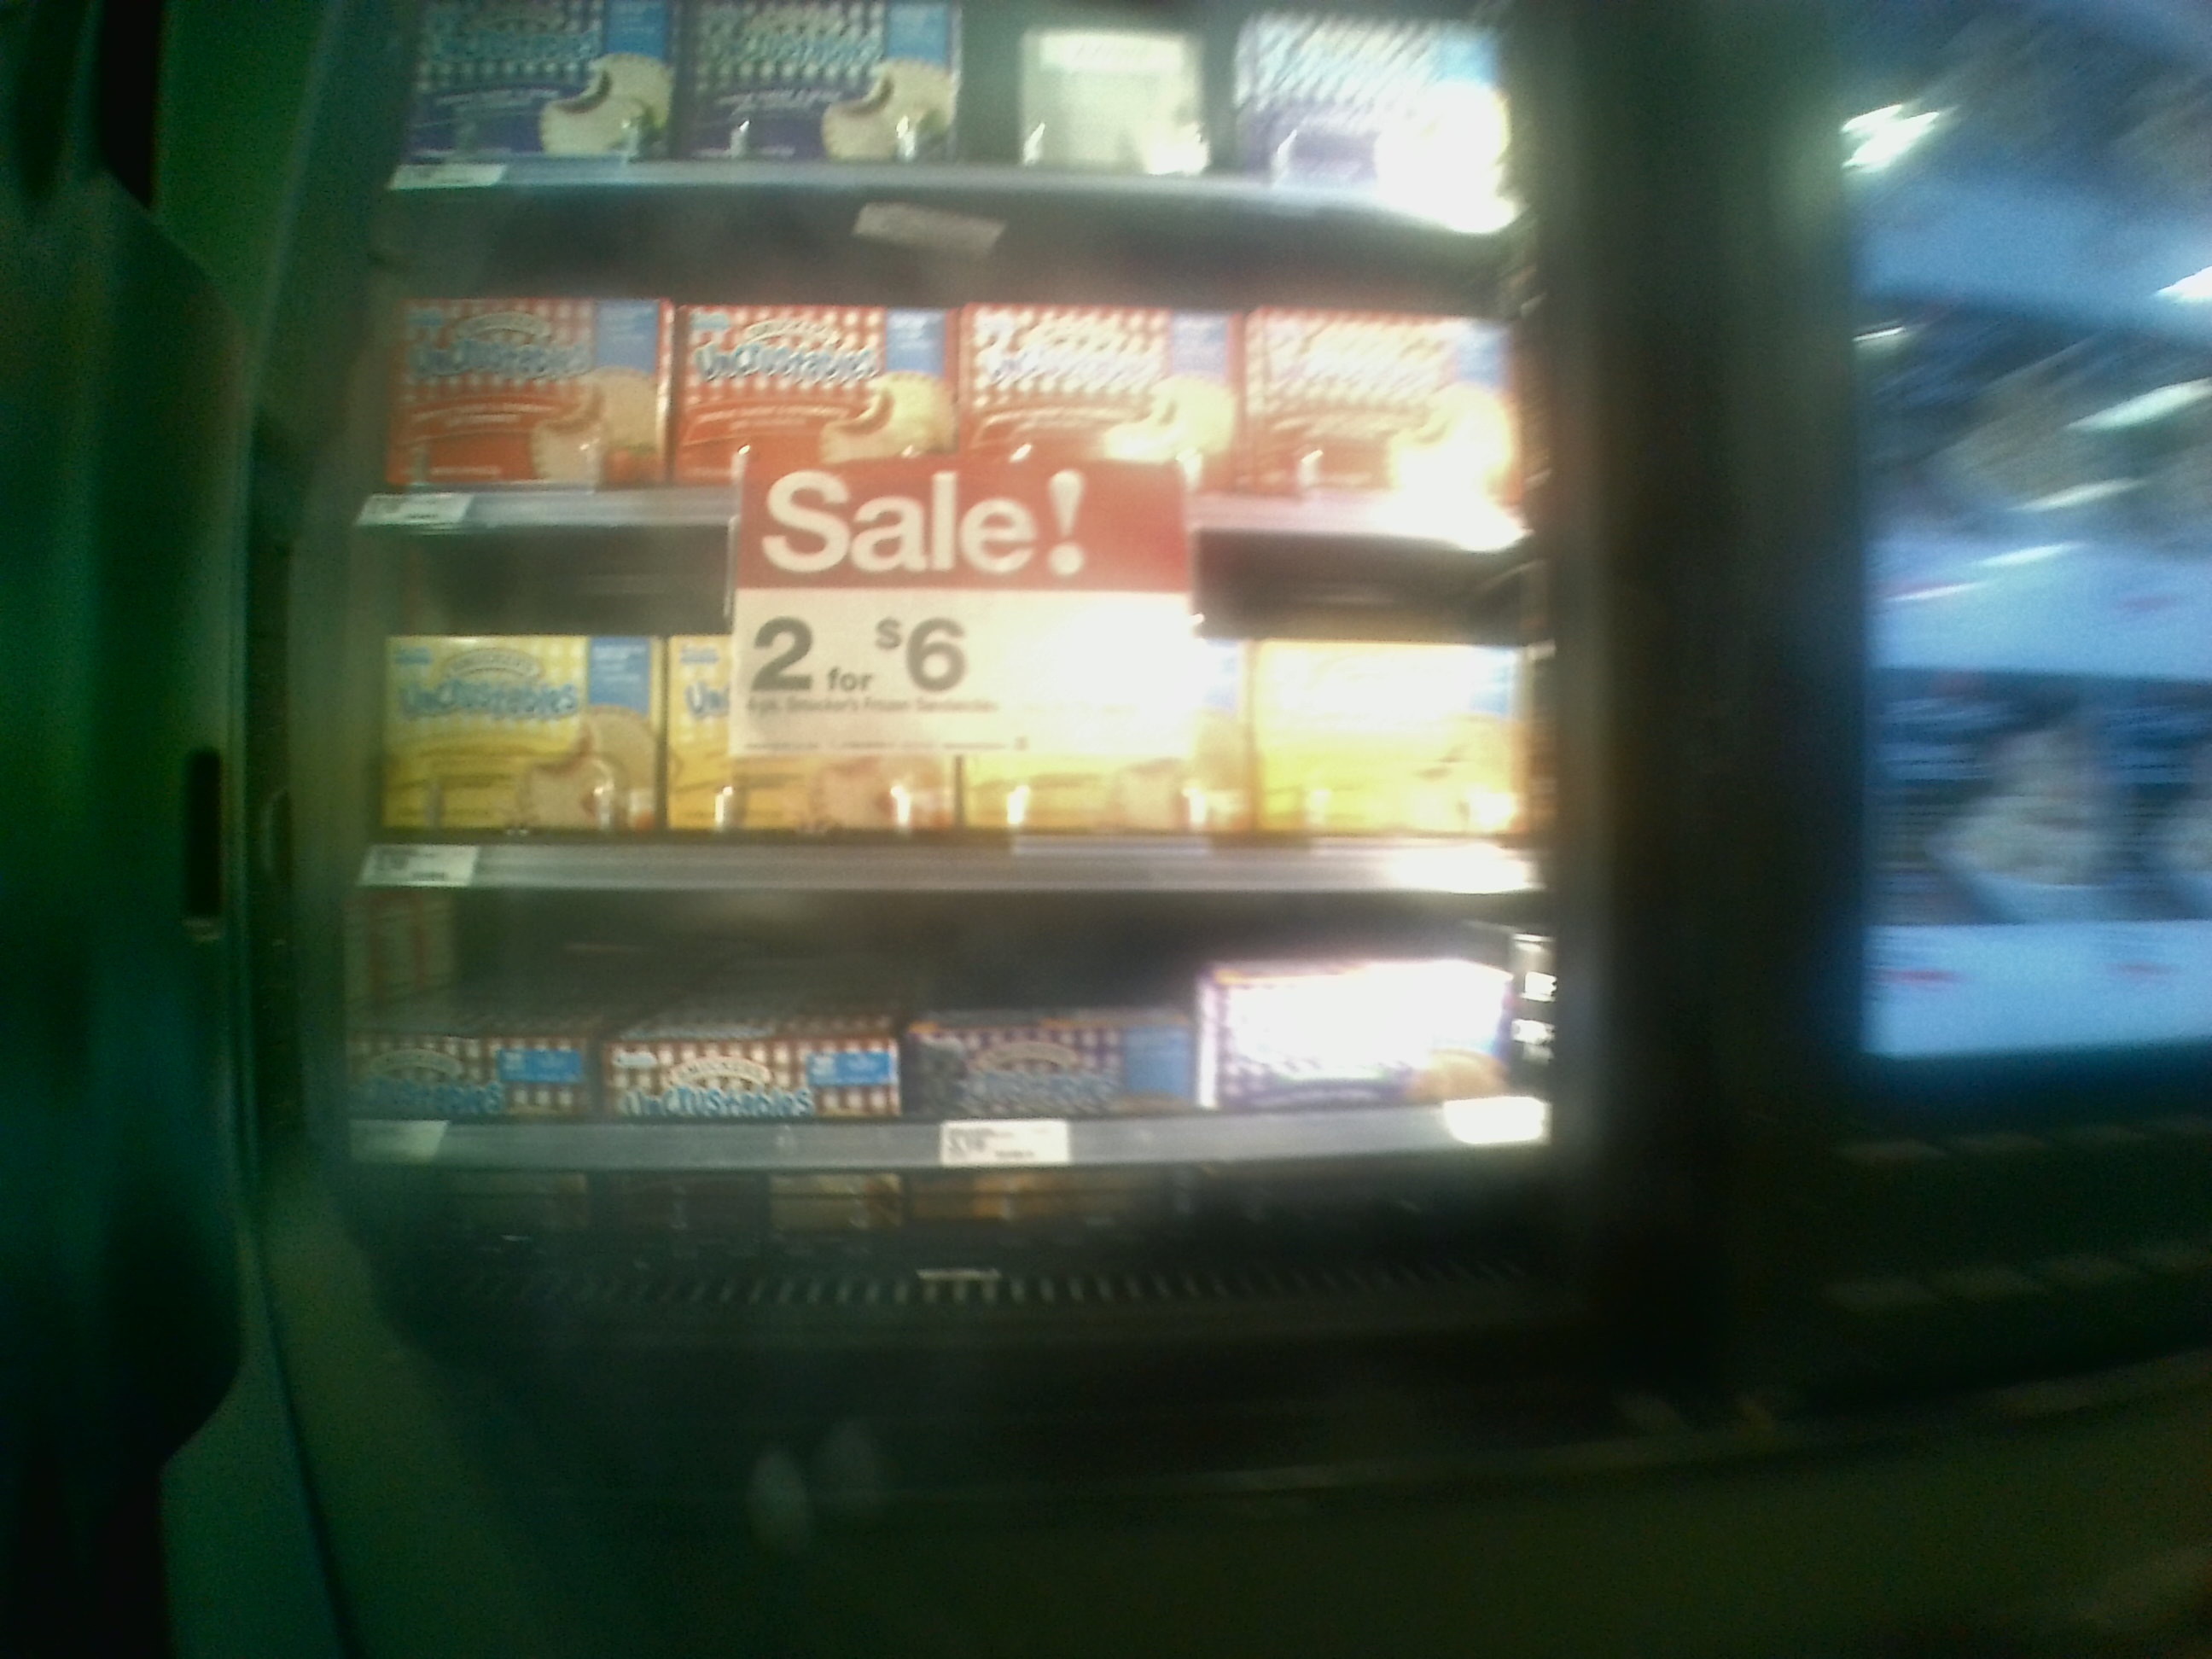shelf: (333, 878, 1559, 1305), (338, 538, 1550, 897), (361, 186, 1534, 542)
